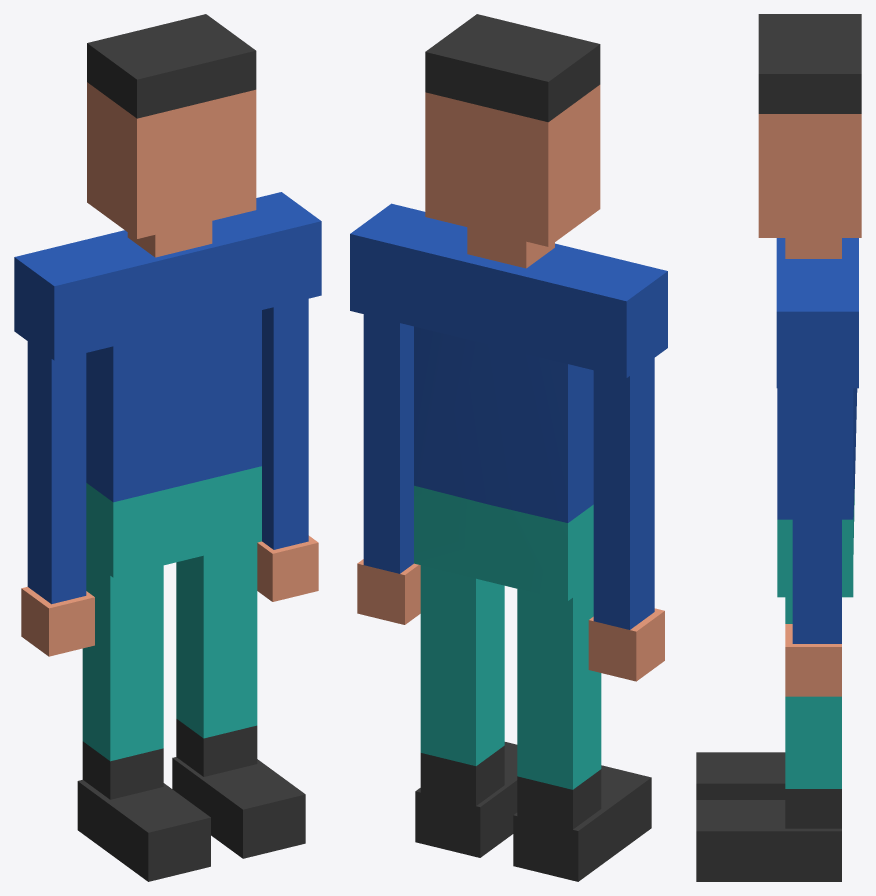
The model's file is man_blue.FBX.
3 renders of one model, left to right at view 1: azimuth 30°, elevation 25°; view 2: azimuth 150°, elevation 25°; view 3: azimuth 270°, elevation 25°, orthographic. The views are drawn at different scales.
Visible parts, largest first — view 1: Box145; view 2: Box145; view 3: Box145.
Boxes of the visible parts, x1=… form: Box145: x1=14, y1=14, x2=321, y2=881; Box145: x1=350, y1=14, x2=667, y2=881; Box145: x1=696, y1=14, x2=861, y2=881.
Size of the model in its own units: 25.52 by 70.09 by 13.18.
